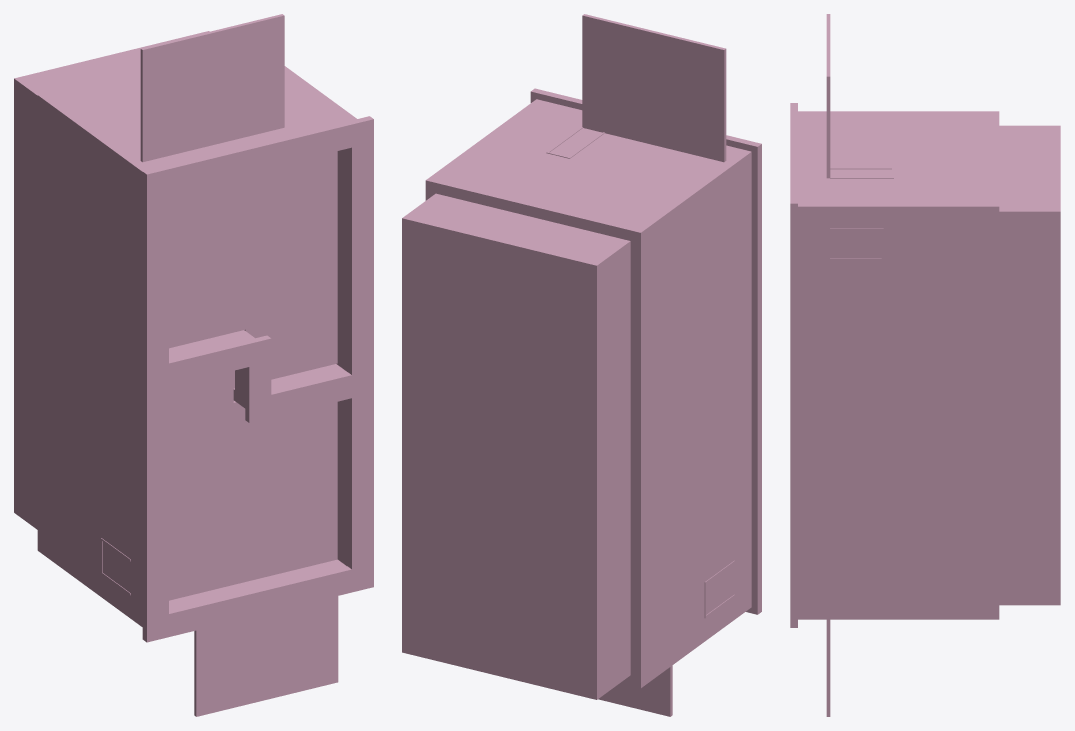
File: duplex.glb
The picture shows the model from 3 angles, left to right: view 1: azimuth 30°, elevation 25°; view 2: azimuth 150°, elevation 25°; view 3: azimuth 270°, elevation 25°; orthographic projection. The views are drawn at different scales.
Size of the model in its own units: 9.28 by 26.57 by 10.55.
